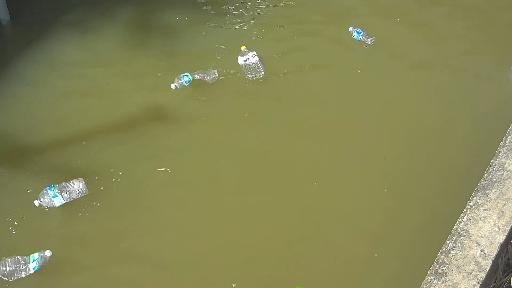plastic: (152, 59, 224, 107), (35, 167, 106, 211), (0, 238, 62, 288), (330, 13, 403, 45), (235, 36, 275, 93)
